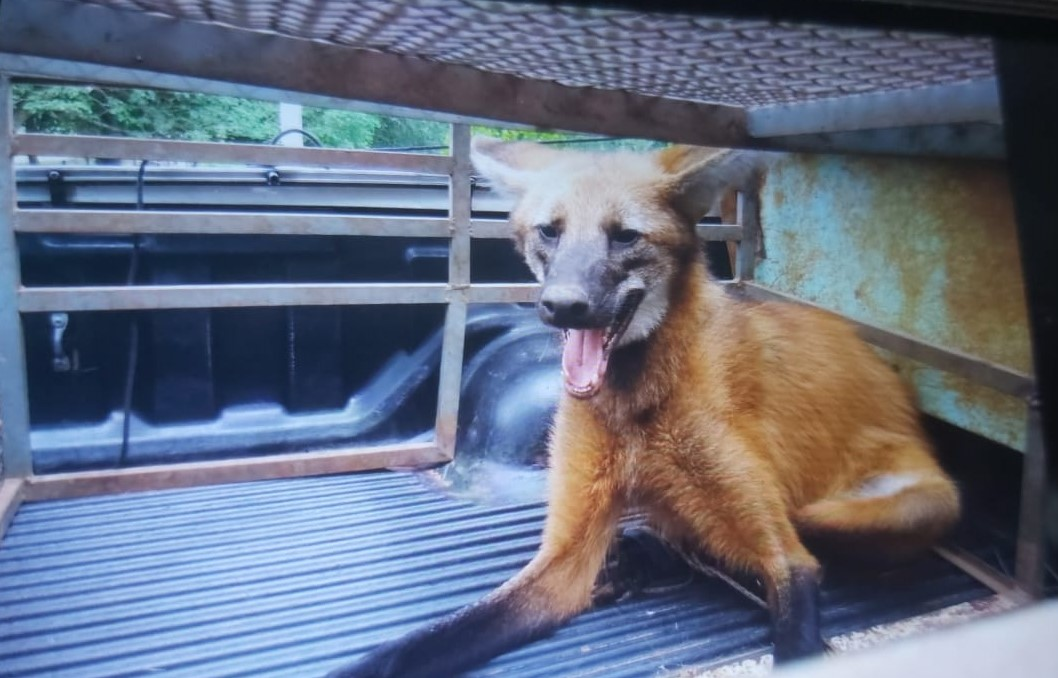LoboGuara: (413, 116, 969, 650)
